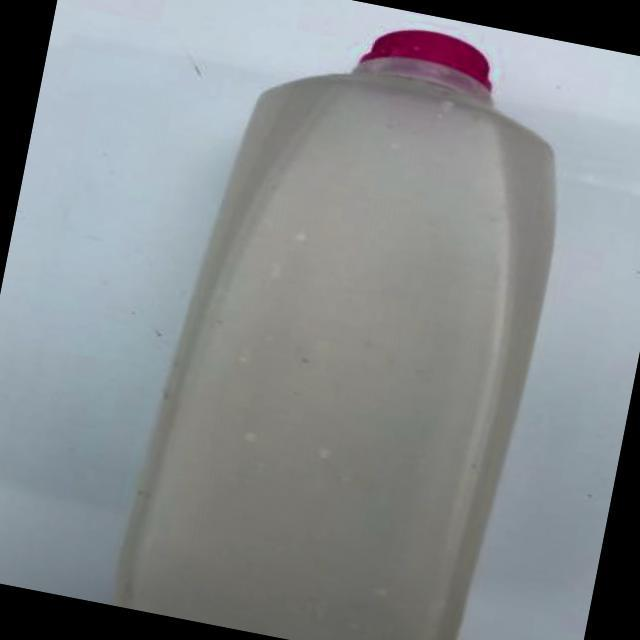HDPE Plastic: (114, 26, 559, 638)
